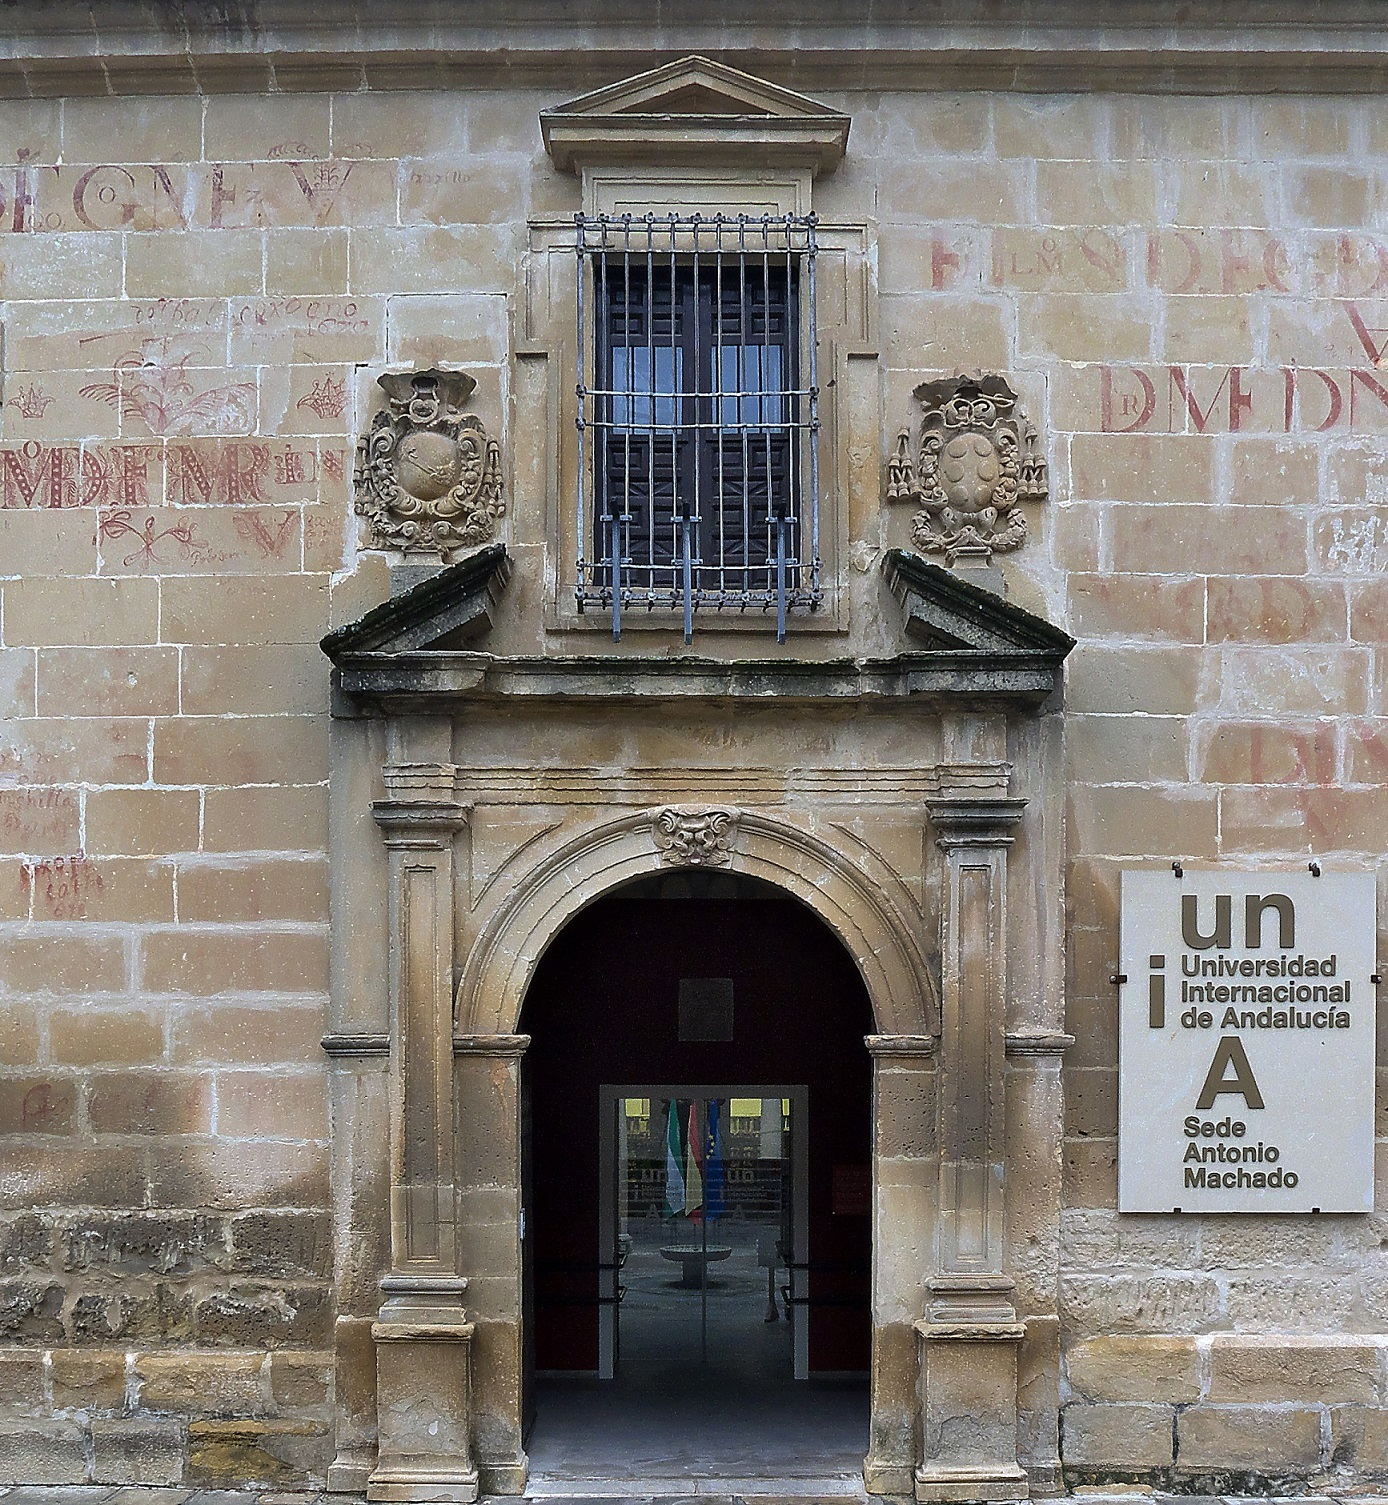arco-medio-punto: (440, 801, 950, 1079)
fronton: (523, 45, 876, 170)
fronton-partido: (311, 534, 1094, 724)
vano-adintelado: (497, 180, 893, 694)
